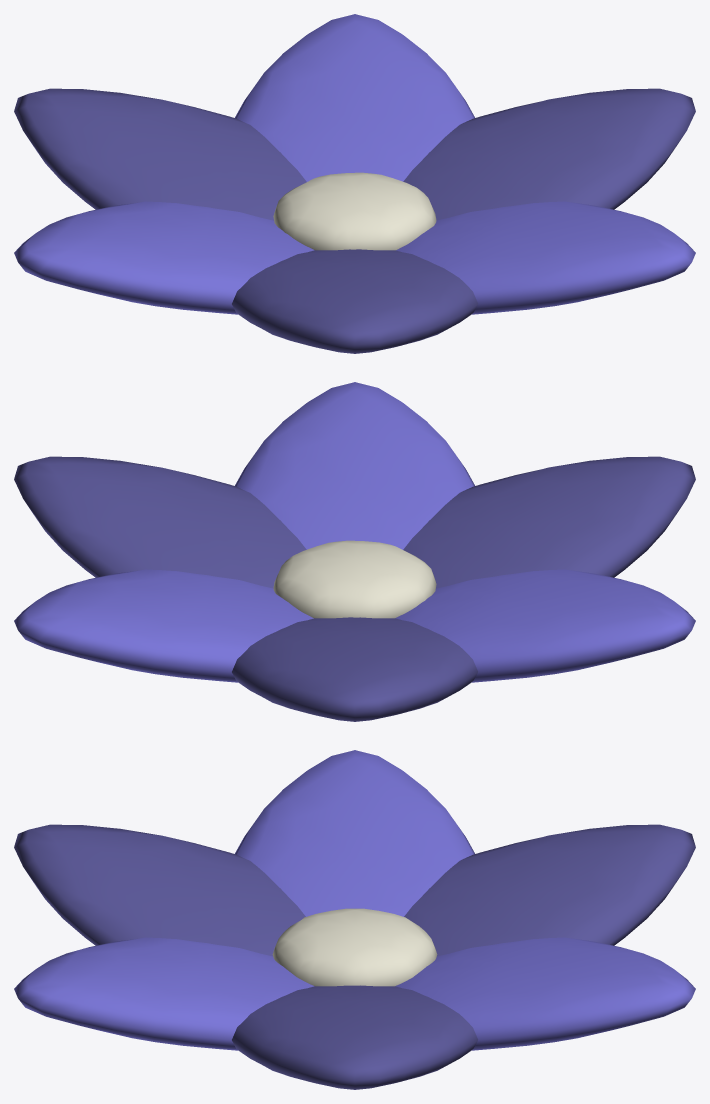
The model's file is SM_Blume_01.fbx.
3 renders of one model, top to bottom at view 1: azimuth 30°, elevation 25°; view 2: azimuth 150°, elevation 25°; view 3: azimuth 270°, elevation 25°, orthographic.
Visible parts, largest first — view 1: Blume_01.001; view 2: Blume_01.001; view 3: Blume_01.001.
Part boxes in pixels (x1,y1,x2,y2): Blume_01.001: (14, 14, 695, 353); Blume_01.001: (14, 382, 695, 721); Blume_01.001: (14, 750, 695, 1089).
Bounding box in the file's own units: 104 × 13.34 × 90.7.
